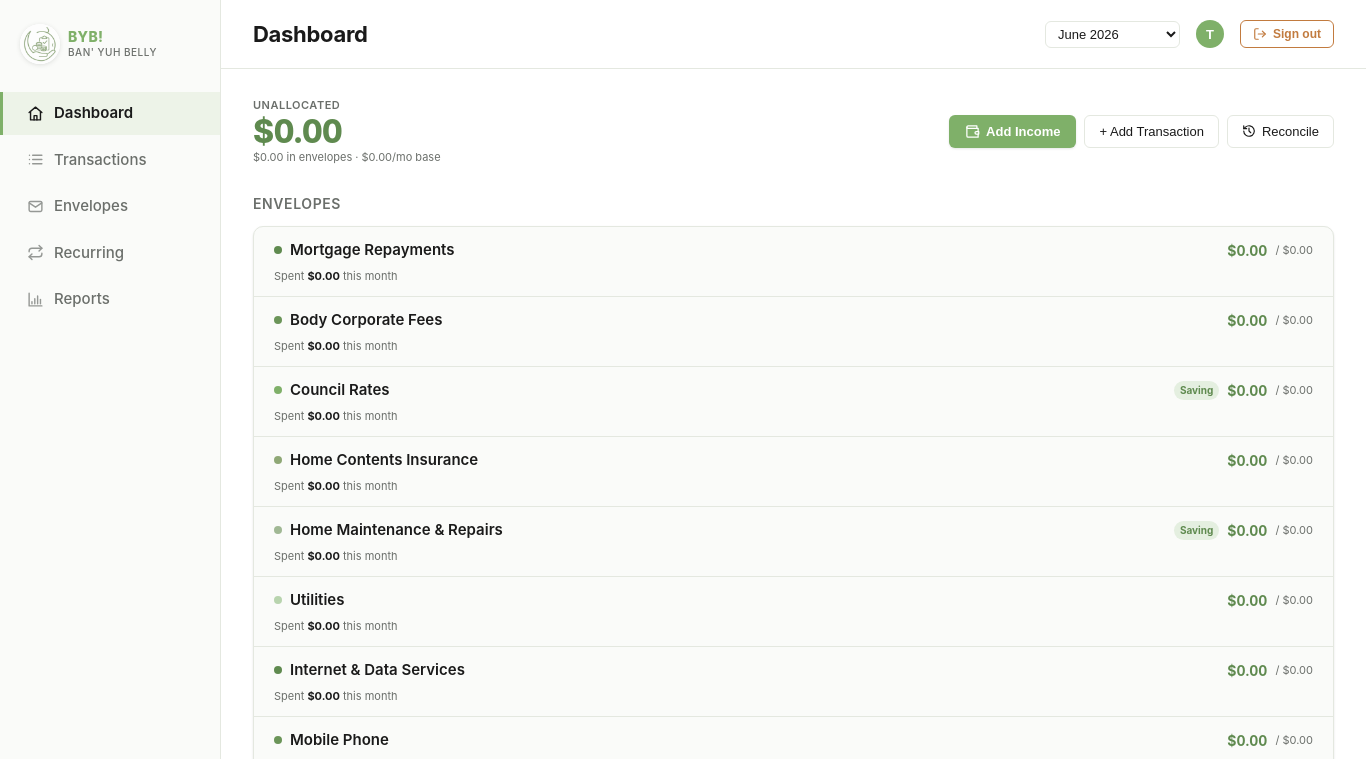
Scenario: Reconcile › reconcile asks for confirmation and logs nothing when balances are zero
The width and height of the screenshot is (1366, 759).
Click the button with test id "reconcile-btn".
click(1280, 131)  # box [1227,115,1334,148]
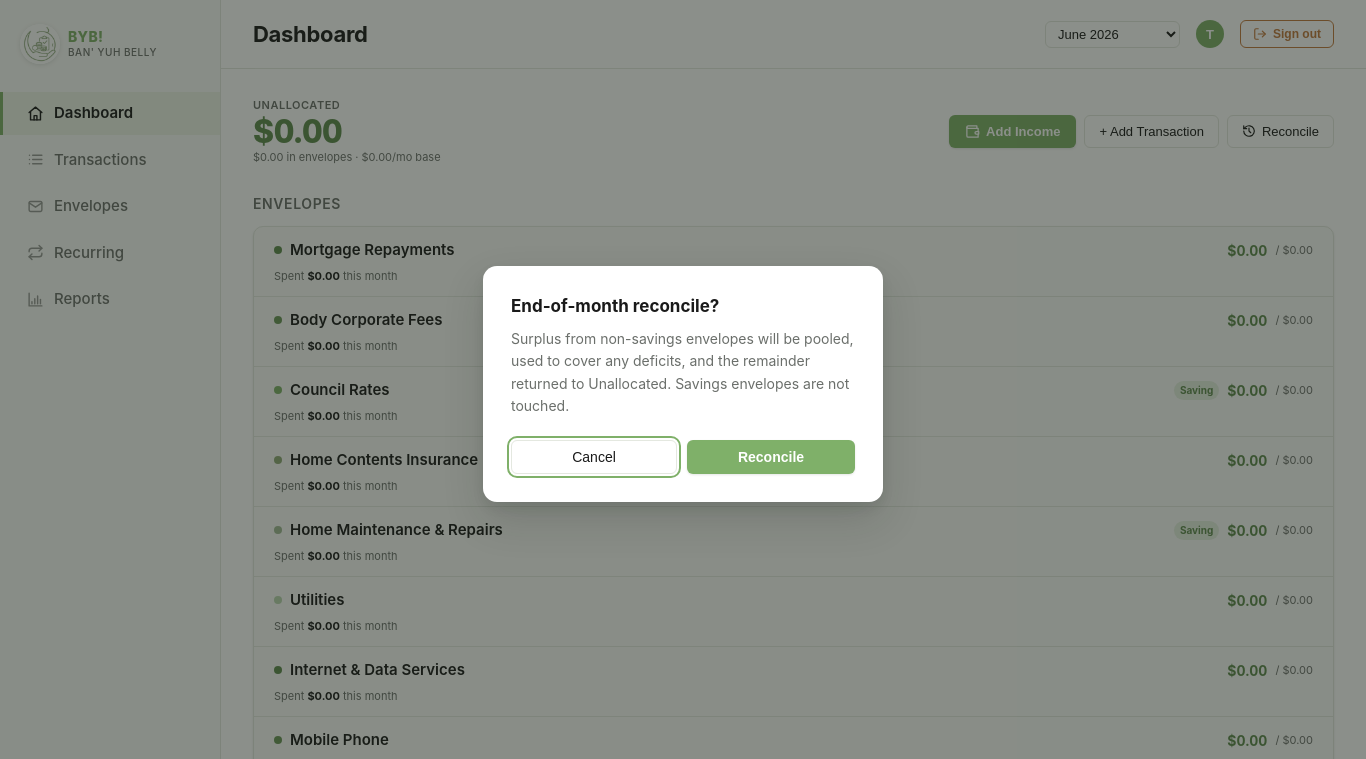
Click the button with test id "confirm-ok".
click(771, 456)  # box [687,440,855,474]
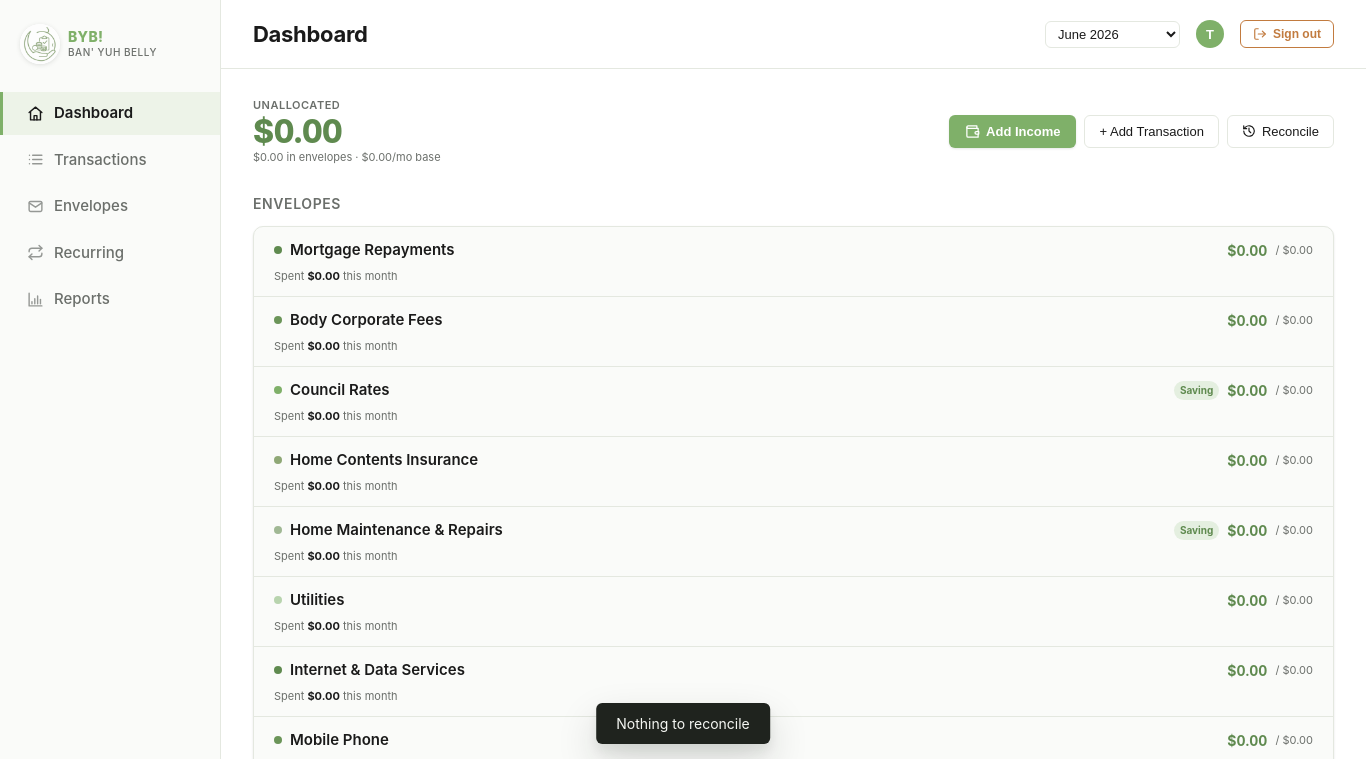
Result: the text with test id "toast" reads "Nothing to reconcile" at [616,715,750,732]
